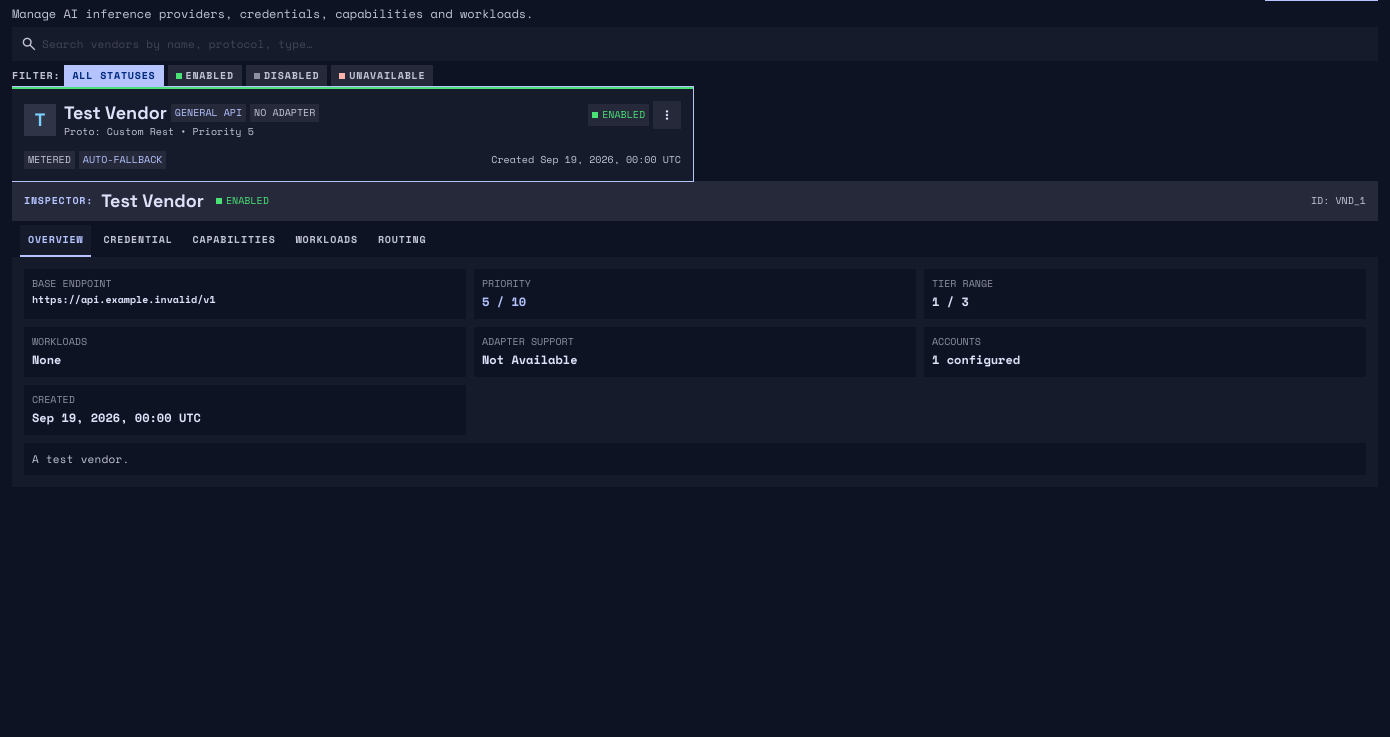
Test: Vendors page — Credential Vault (Block 08) › an Inhouse-vault-managed credential displays only the masked value, never a raw secret
The width and height of the screenshot is (1390, 737).
Expected: the text "Test Vendor" next to "General Api" is shown, [64, 101, 167, 124]
Click the button "Credential": (138, 241) [95, 225, 181, 257]
(page scrolled)
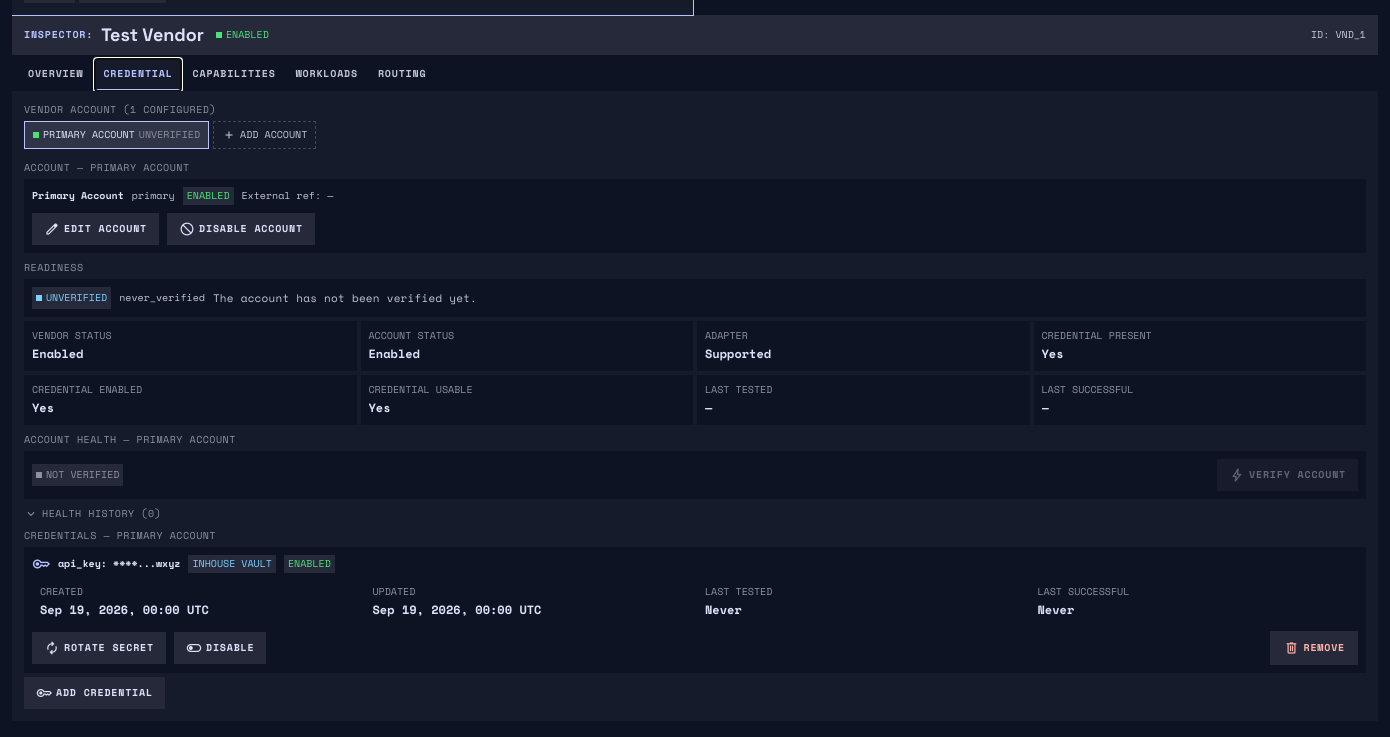
Expected: the text "api_key: ****...wxyz" is shown, [58, 557, 180, 571]
Expected: the text "Inhouse Vault" is shown, [188, 555, 276, 573]
